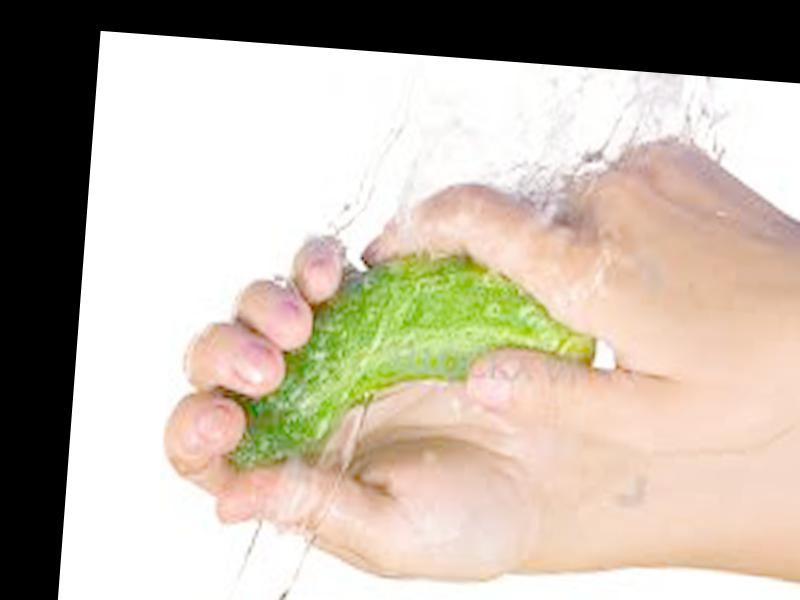Cucumber: (225, 235, 605, 494)
